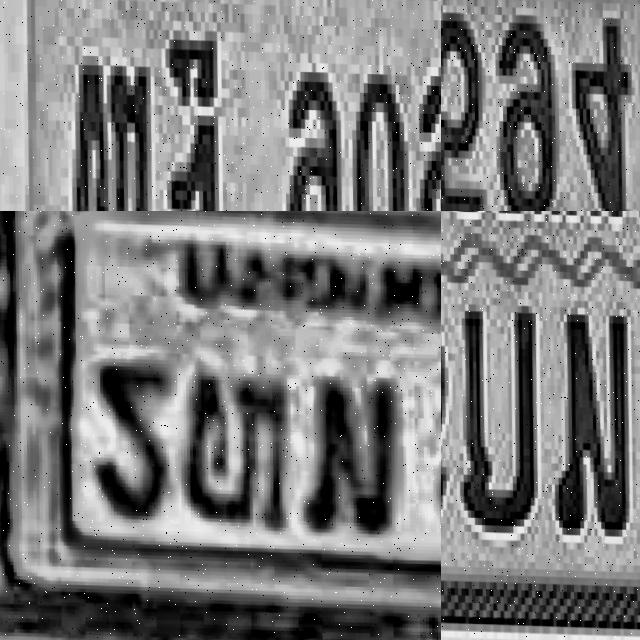license-plate: (0, 211, 441, 623), (0, 0, 441, 211), (441, 211, 640, 640), (441, 0, 640, 211)
